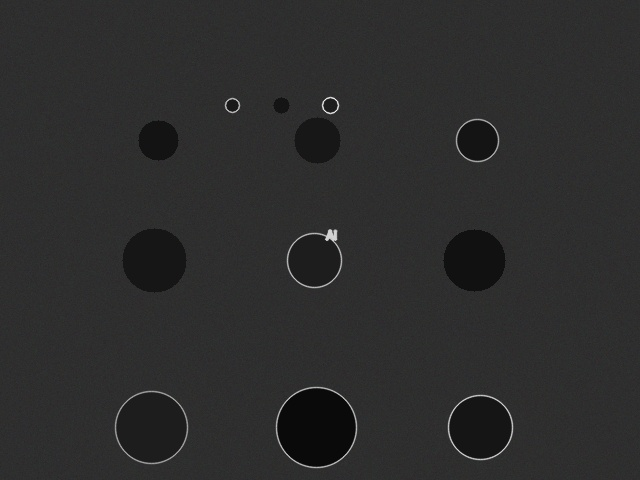hole: (276, 387, 356, 467), (115, 391, 187, 463), (122, 228, 186, 292), (448, 395, 512, 459), (443, 229, 505, 291), (287, 233, 341, 287), (294, 117, 340, 163), (456, 119, 498, 161), (138, 120, 178, 160), (273, 97, 289, 113), (322, 97, 338, 113), (225, 98, 239, 112)
